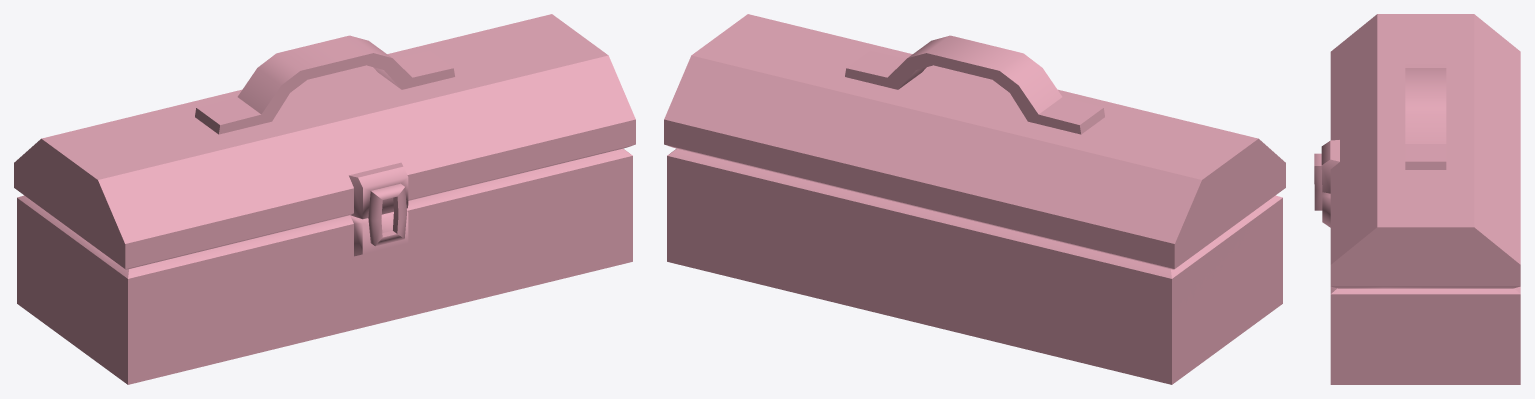
The model's file is Toolbox.fbx.
3 renders of one model, left to right at view 1: azimuth 30°, elevation 25°; view 2: azimuth 150°, elevation 25°; view 3: azimuth 270°, elevation 25°, orthographic. The views are drawn at different scales.
Visible parts, largest first — view 1: Toolbox; view 2: Toolbox; view 3: Toolbox.
Boxes of the visible parts, <box> form: Toolbox: <box>14,14,635,384</box>; Toolbox: <box>664,14,1285,384</box>; Toolbox: <box>1314,14,1520,384</box>.
Size of the model in its own units: 67.04 by 28.79 by 27.45.
